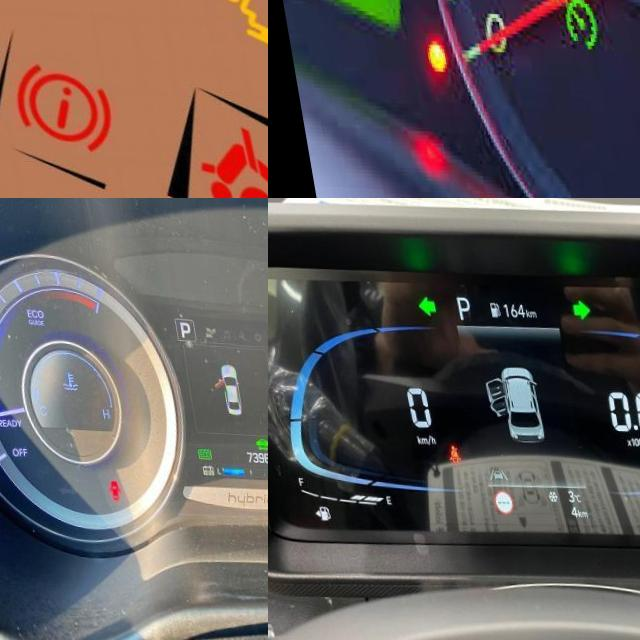Doors: (90, 477, 107, 499)
